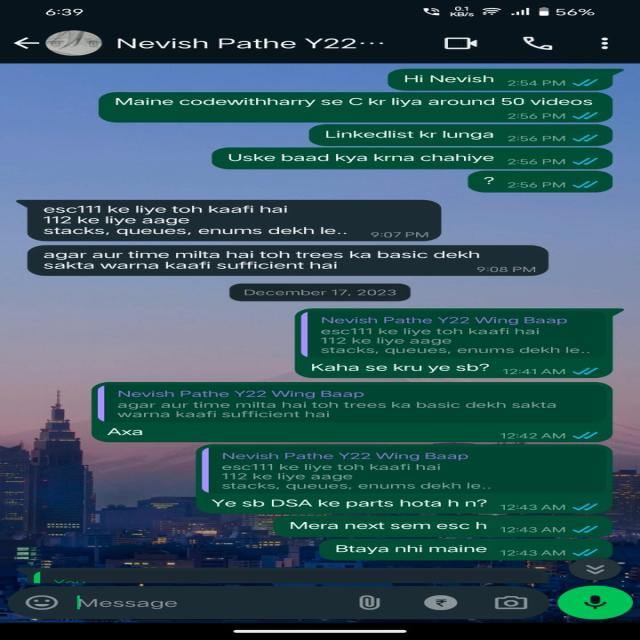text: (30, 247, 513, 277), (34, 199, 362, 239)
